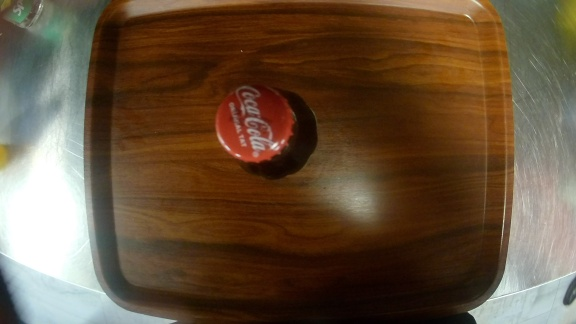camkola: (210, 82, 327, 185)
